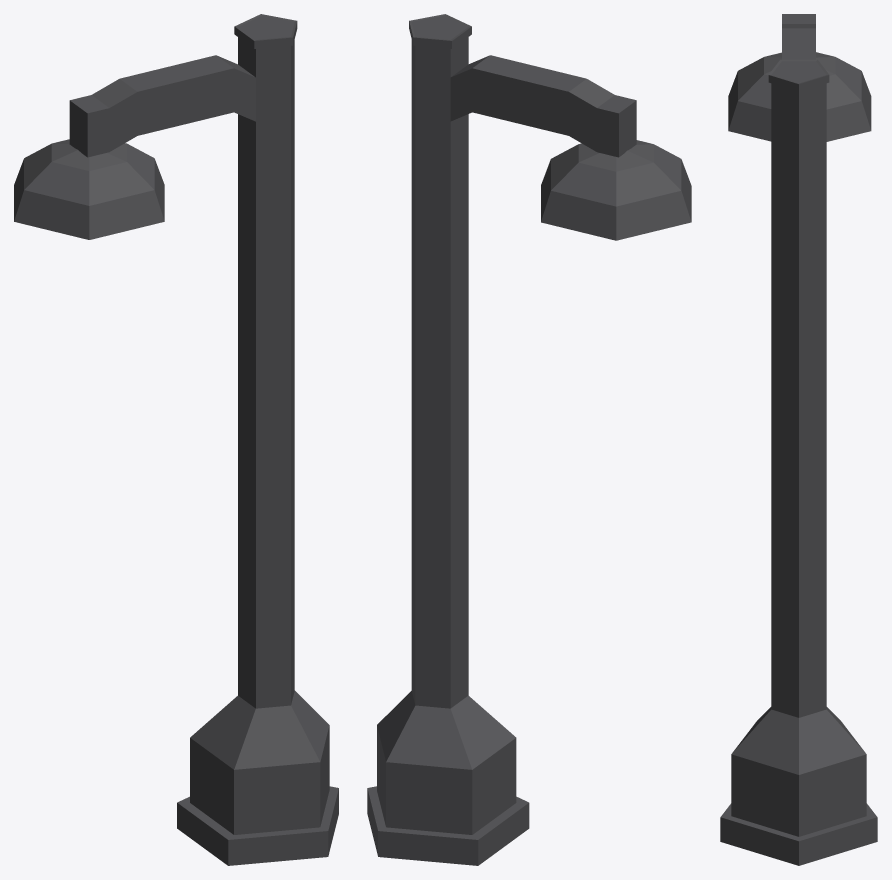
Rendered from Lampara.fbx.
3 renders of one model, left to right at view 1: azimuth 30°, elevation 25°; view 2: azimuth 150°, elevation 25°; view 3: azimuth 270°, elevation 25°, orthographic. The views are drawn at different scales.
Parts seen in each view (by area): view 1: Lampara; view 2: Lampara; view 3: Lampara.
Boxes of the visible parts, left/top/right/bottom form: Lampara: left=14, top=14, right=338, bottom=865; Lampara: left=367, top=14, right=691, bottom=865; Lampara: left=720, top=14, right=877, bottom=865.
Size of the model in its own units: 4.31 by 10.19 by 1.9.
